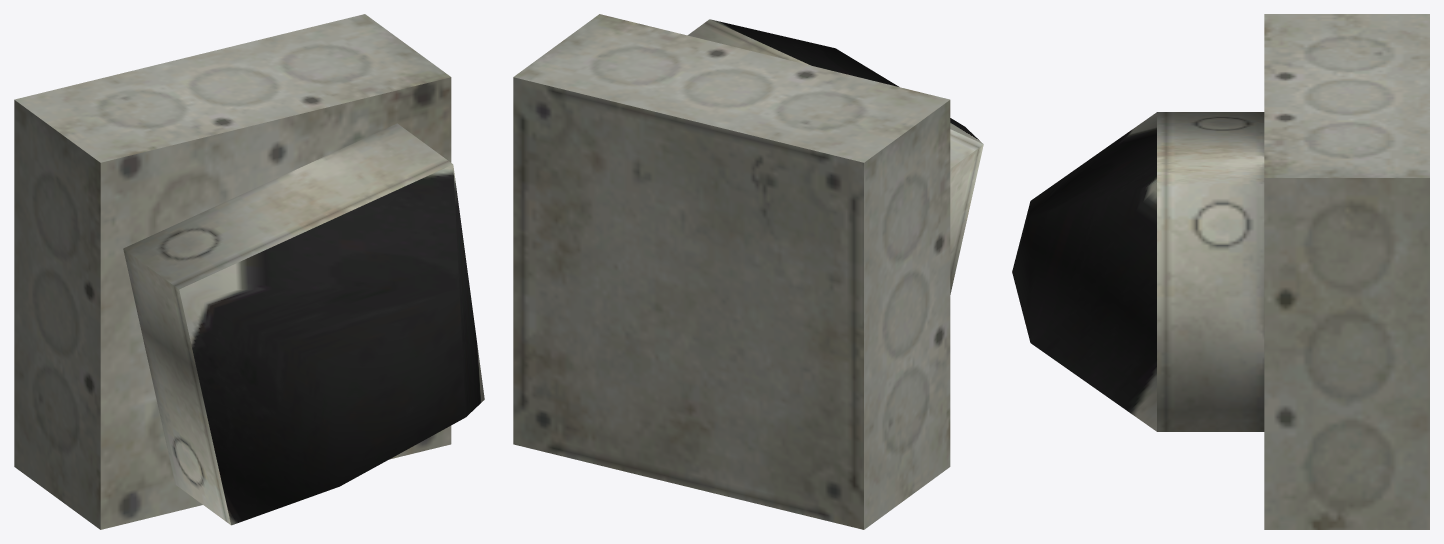
Rendered from p6_garage_pipes_camera_LOD2.obj.
3 views of the same model, side by side, from view 1: azimuth 30°, elevation 25°; view 2: azimuth 150°, elevation 25°; view 3: azimuth 270°, elevation 25° (orthographic). The views are drawn at different scales.
Visible parts, largest first — view 1: mtl_p6_pipes_garage_details; view 2: mtl_p6_pipes_garage_details; view 3: mtl_p6_pipes_garage_details.
Part boxes in pixels (x1,y1,x2,y2): mtl_p6_pipes_garage_details: [14, 14, 484, 529]; mtl_p6_pipes_garage_details: [513, 14, 983, 529]; mtl_p6_pipes_garage_details: [1012, 14, 1429, 529].
Size of the model in its own units: 16.86 by 16.86 by 18.15.
